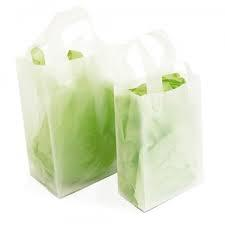Plastic bag: (9, 2, 224, 211)
